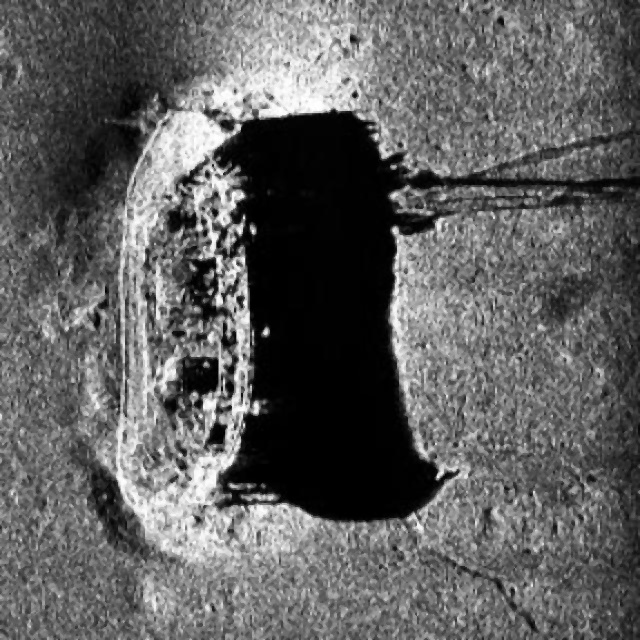Ship: (114, 96, 266, 542)
